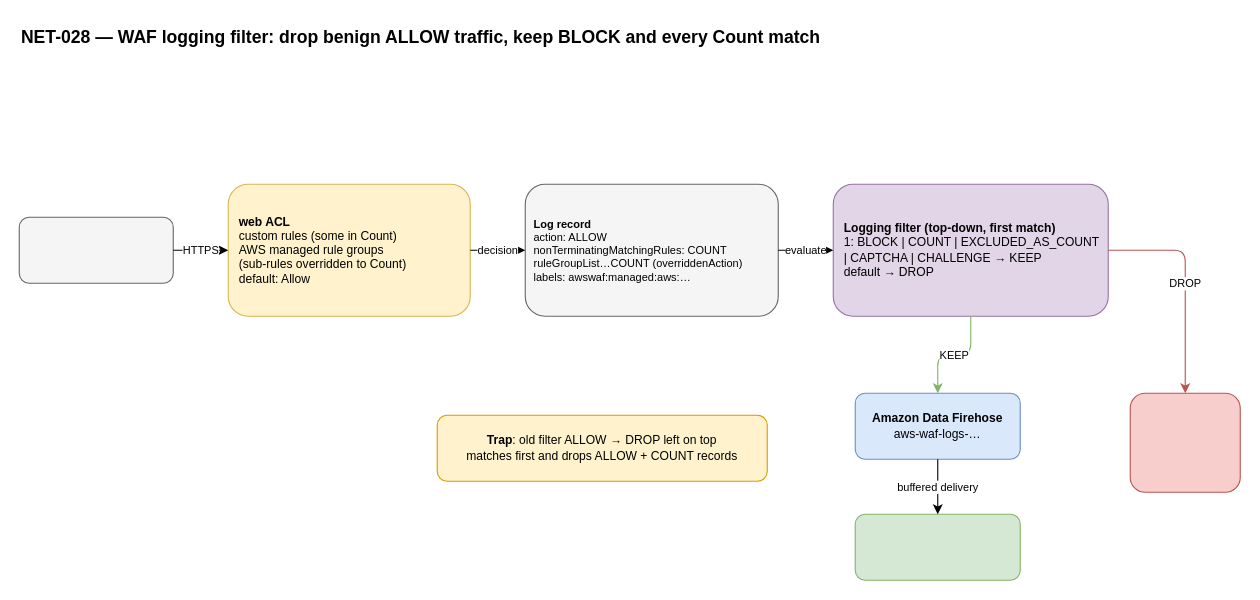
The diagram is 1260 pixels wide and 600 high, and some of its shapes have lost their labels. Here are the shapes that lost their labels. From the top down, the box of each, then its label:
(18, 216, 173, 283): Viewers streaming app / web
(1129, 392, 1240, 492): Dropped before delivery benign ALLOW (no Count match) no Firehose / S3 cost
(854, 513, 1020, 580): Amazon S3 security log archive
